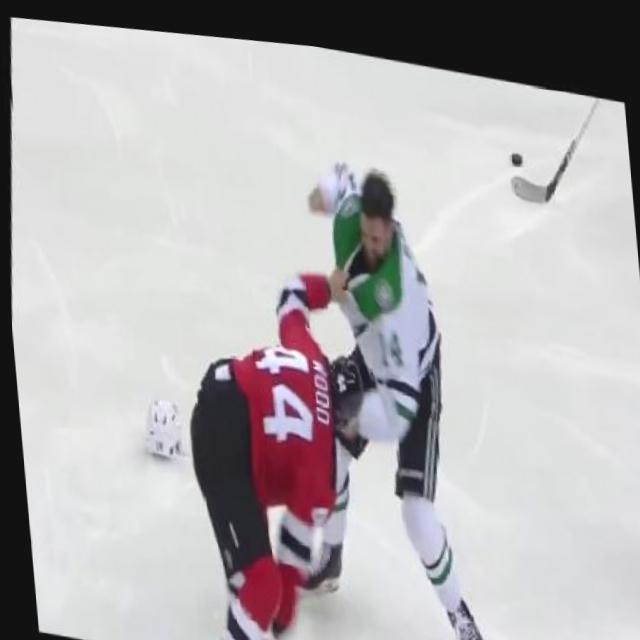fight: (140, 101, 503, 640)
